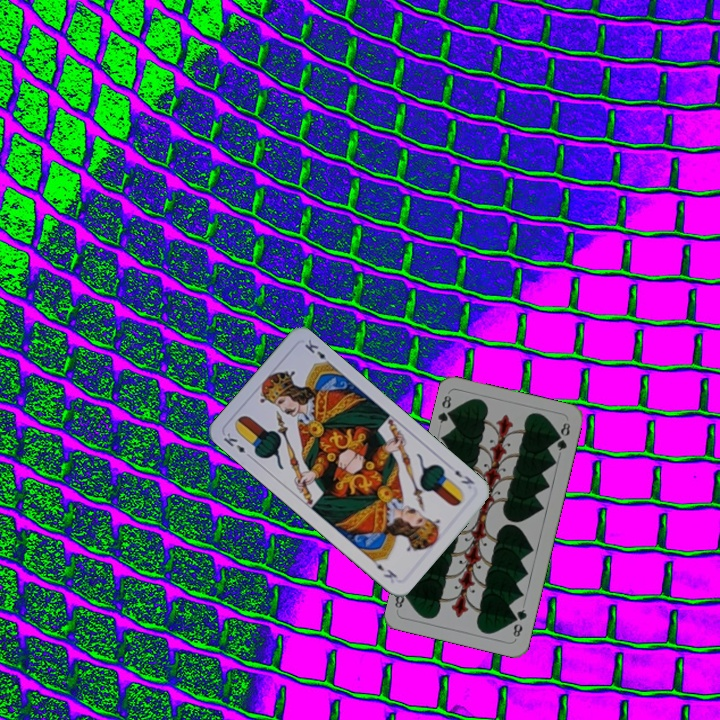EK: (219, 428, 255, 461), (451, 466, 477, 487)
G8: (434, 391, 457, 426), (509, 605, 530, 642)
